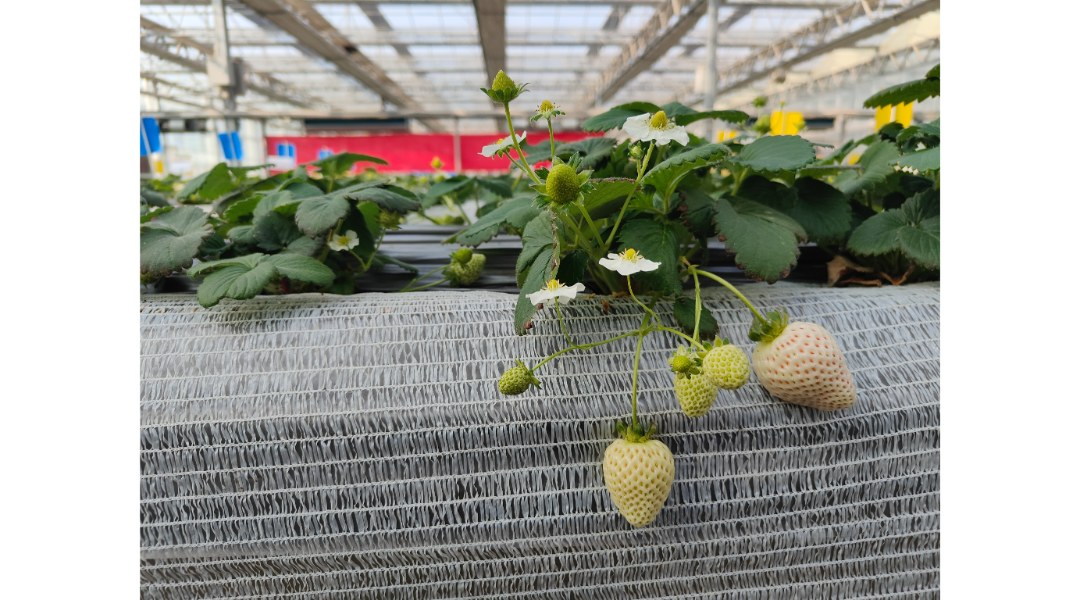berry: (744, 316, 866, 418), (591, 424, 682, 536), (673, 358, 720, 430), (539, 159, 598, 210), (703, 342, 757, 393), (488, 349, 539, 398), (482, 57, 524, 113), (668, 337, 702, 388), (532, 99, 572, 120)
flower: (611, 101, 689, 158), (524, 271, 589, 311), (473, 126, 531, 163), (592, 247, 659, 276)
strain: (708, 265, 765, 320), (685, 280, 709, 331), (612, 187, 635, 240), (581, 330, 634, 350), (633, 338, 642, 421), (533, 353, 563, 369)
